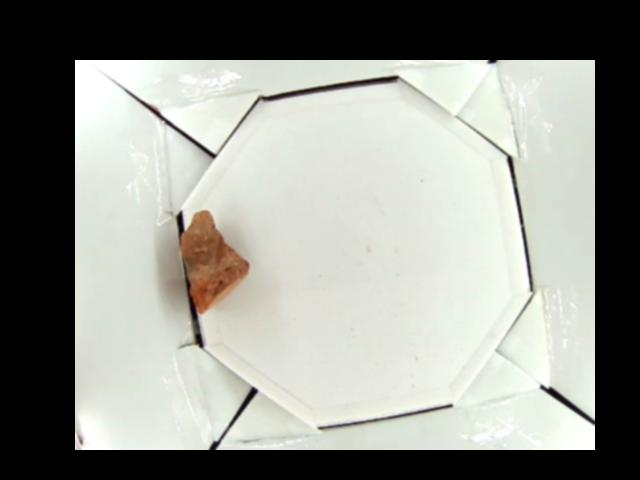Brisk: (179, 209, 247, 312)
